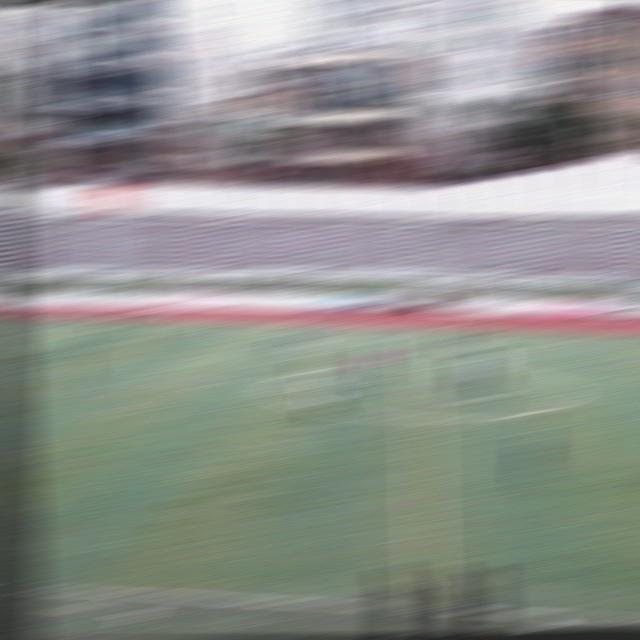bigarea_top_inner: (3, 330, 28, 340)
halfcircle_bottom: (405, 406, 440, 436)
halfcircle_top: (404, 356, 435, 373)
midline_bottom_intersection: (408, 594, 445, 619)
midline_top_intersection: (405, 328, 434, 333)
